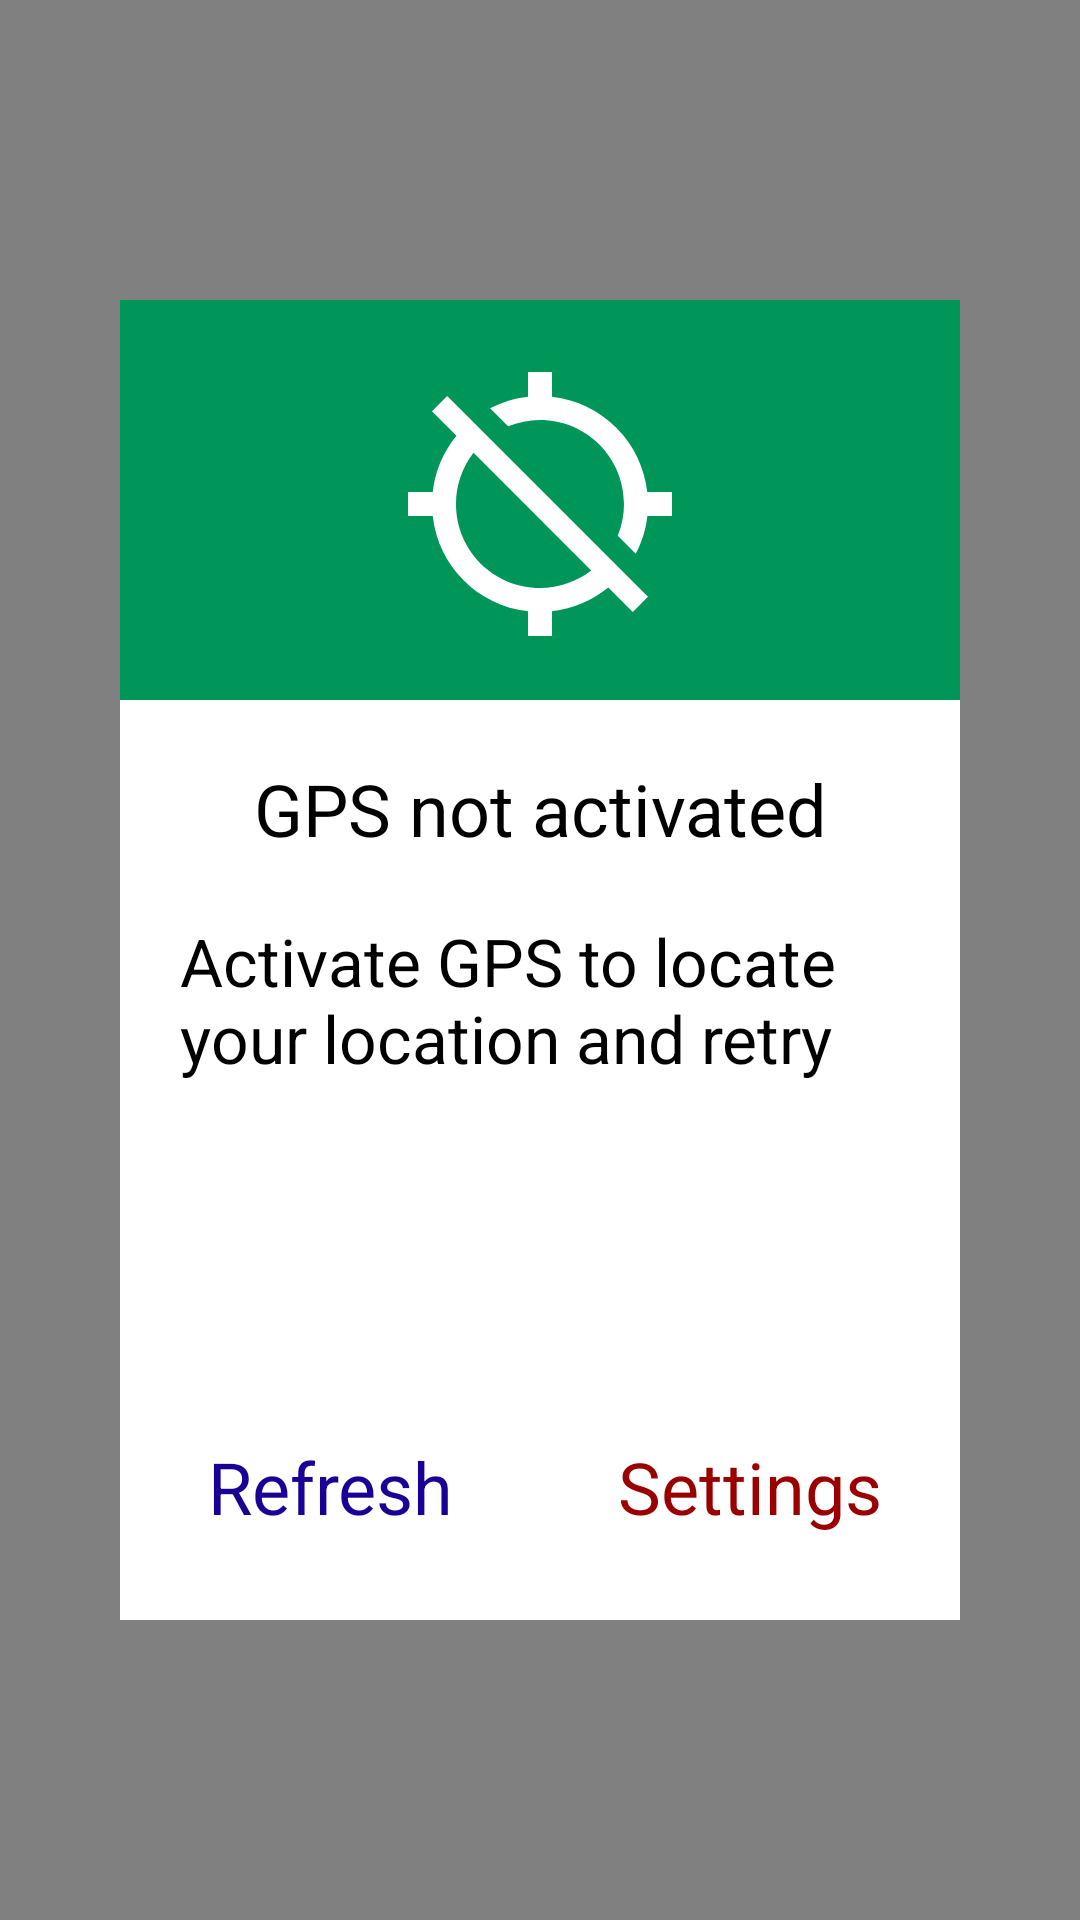

Icon click points for this 1080px×1920px phone screenshot, format [x,y]:
gps off: [540,504]
